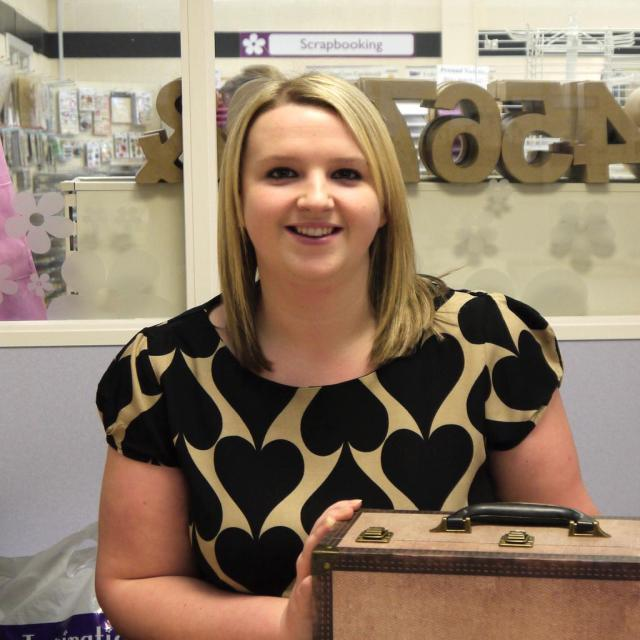Face: (222, 107, 444, 281)
